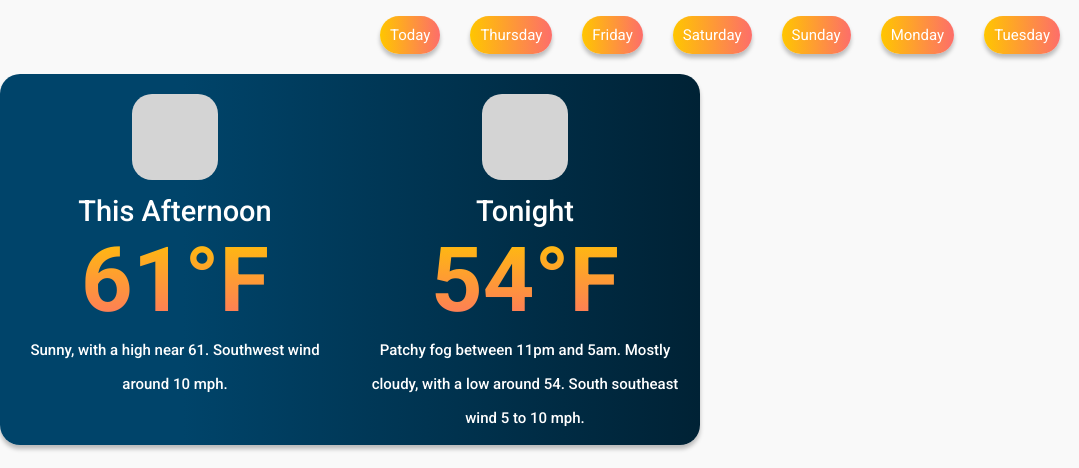
Test: Results › Should load the selected forecast
Expected: the element with test id "forecast-card" is shown, [0, 74, 700, 445]
Expected: the number of elements with test id "forecast-card-item" is 2, [30, 94, 320, 393]; [350, 74, 700, 445]
// Load new data
Step 1. Click the button "Thursday" → (511, 35), box [470, 16, 552, 54]
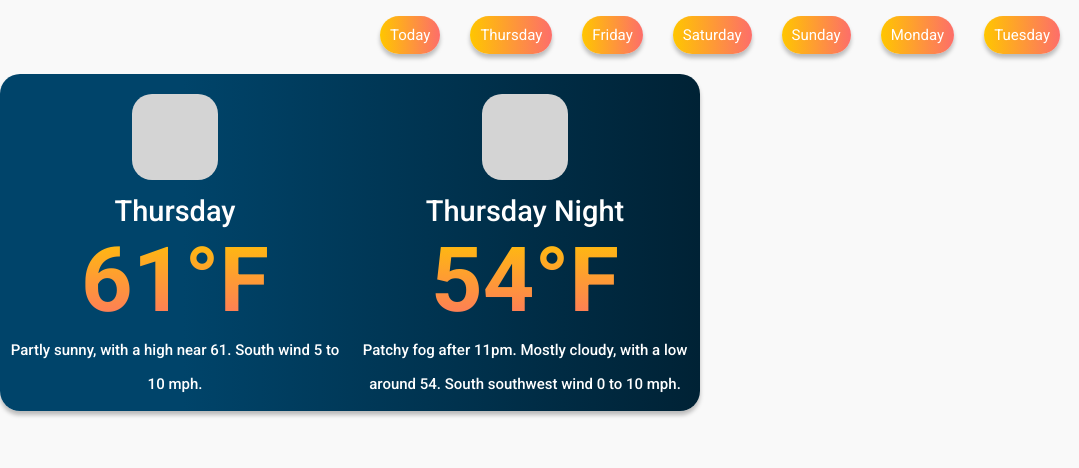
Expected: the text with test id "forecast-card-item-name" reads "Thursday", [114, 194, 236, 228]
Expected: the text with test id "forecast-card-item-detailed-forecast" reads "Partly sunny, with a high near 61. South wind 5 to 10 mph.", [11, 341, 339, 393]
Expected: the text with test id "forecast-card-item-name" reads "Thursday Night", [426, 194, 624, 228]
